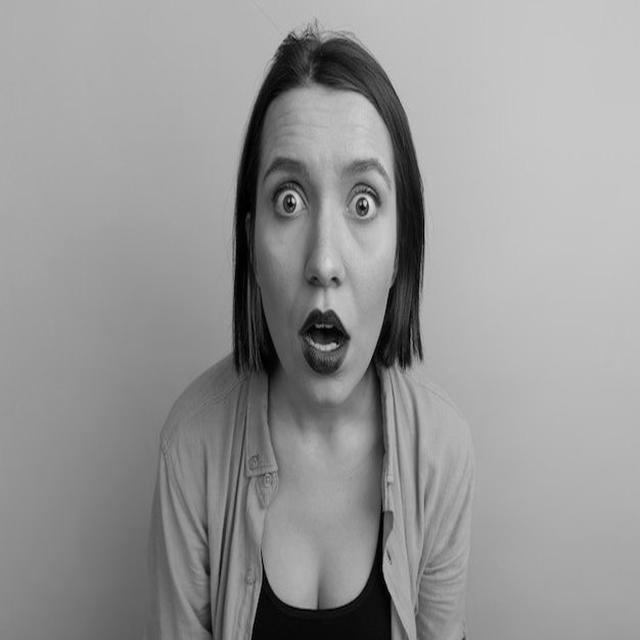Fear: (253, 86, 397, 407)
